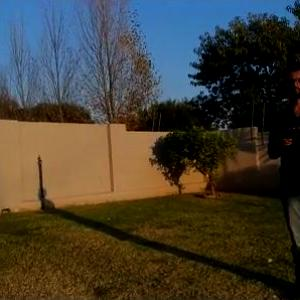follow: (267, 52, 299, 290)
